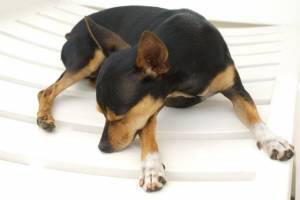dog-miniature_pinscher: (83, 14, 167, 152)
